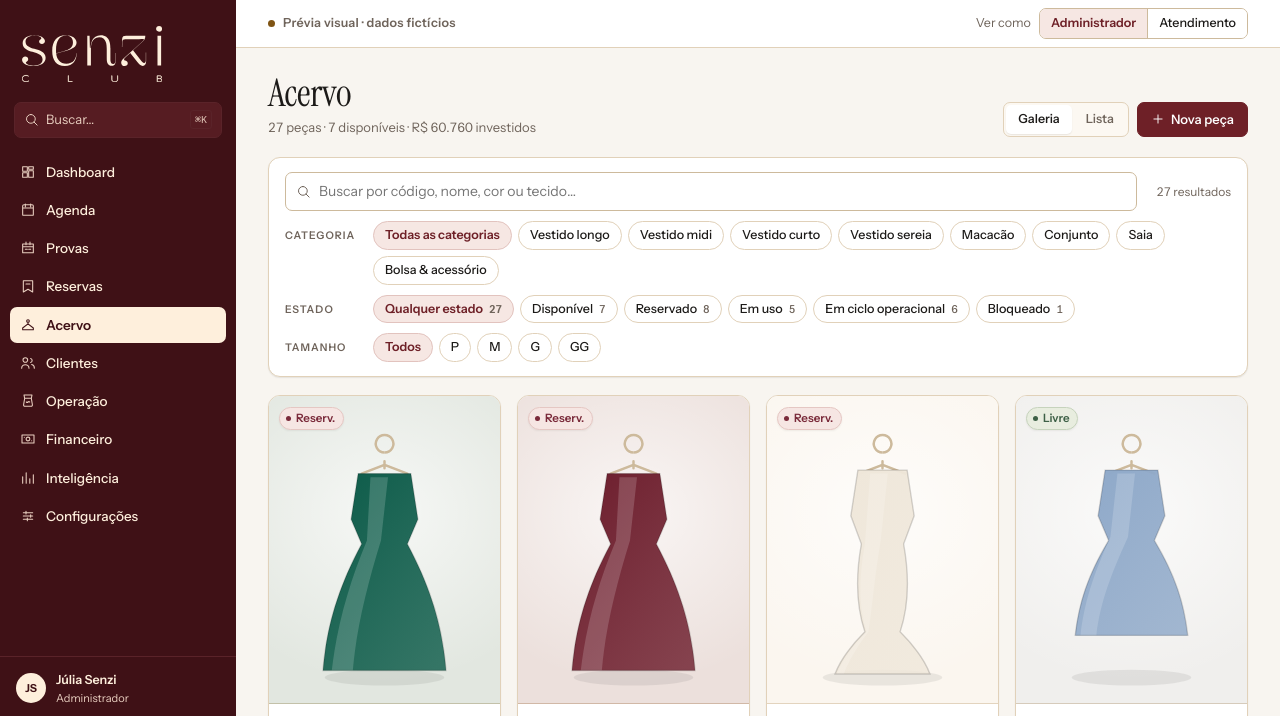
Scenario: Acervo — lista › chips de estado mostram contagens; "Em ciclo operacional" filtra
expect the button "Disponível 7" is shown: met, box [520,295,618,323]
expect the button "Qualquer estado 27" is shown: met, box [373,295,514,323]
Click the button "Em ciclo operacional 6".
click(892, 309)  # box [813,295,970,323]
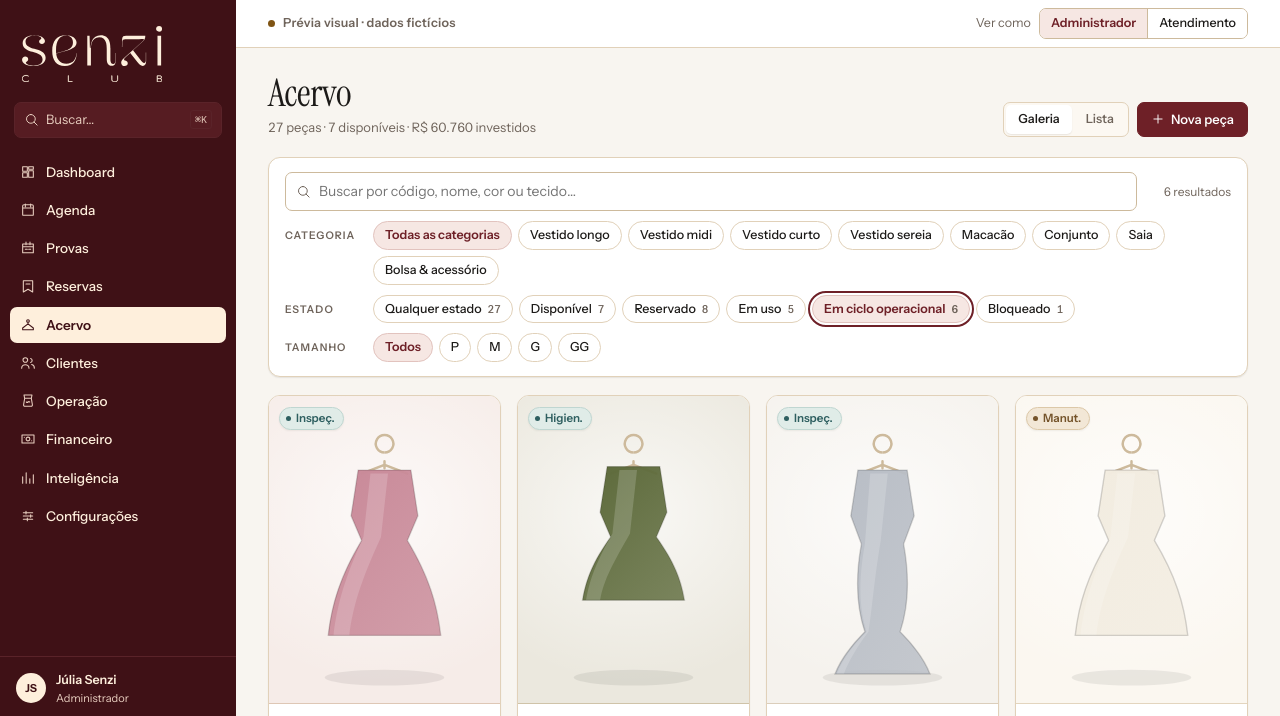
expect the number of list items is 6: met
